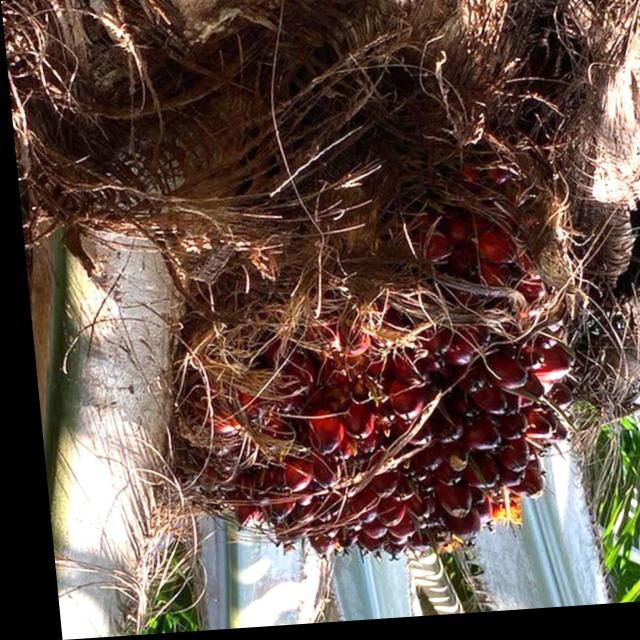ripe: (163, 129, 584, 577)
